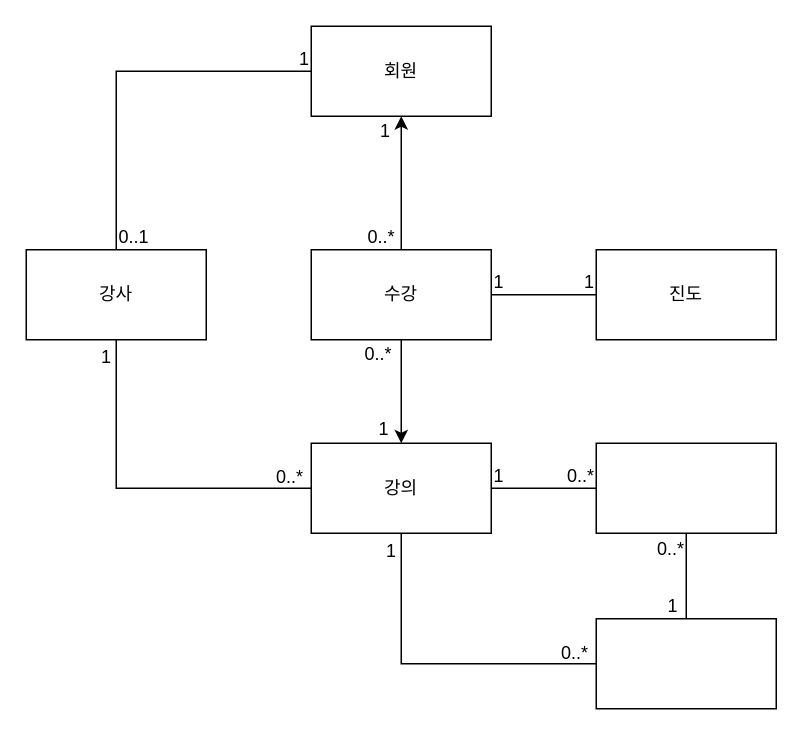
This 803x735 diagram has some shape labels left out. Each missing label, with the centre of its shape:
섹션: (x=685, y=663)
수업: (x=685, y=487)
